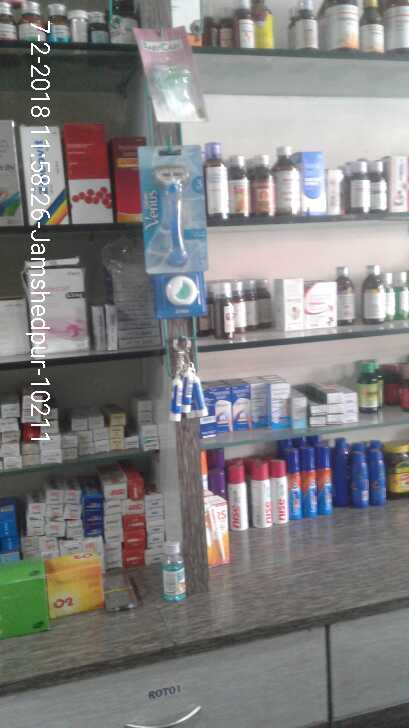beauty: (138, 153, 209, 276)
pharmacy: (164, 342, 211, 431)
